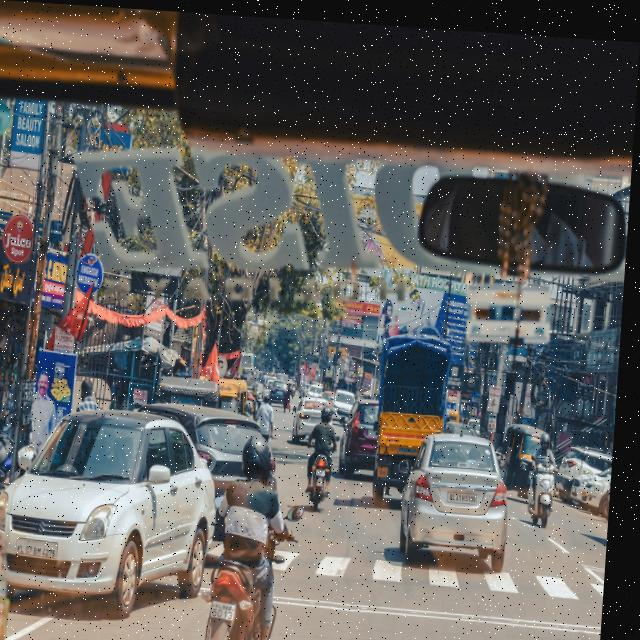plate: (19, 533, 72, 562), (216, 591, 244, 621), (452, 483, 485, 500), (321, 463, 333, 473), (315, 411, 327, 418), (548, 468, 558, 472), (588, 481, 593, 488), (578, 478, 583, 485), (568, 453, 573, 460), (282, 386, 288, 391), (346, 409, 353, 413)
